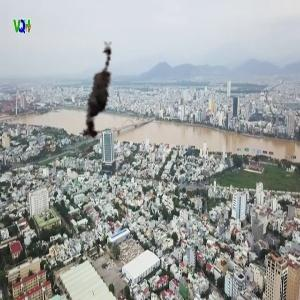drone: (33, 26, 167, 160)
